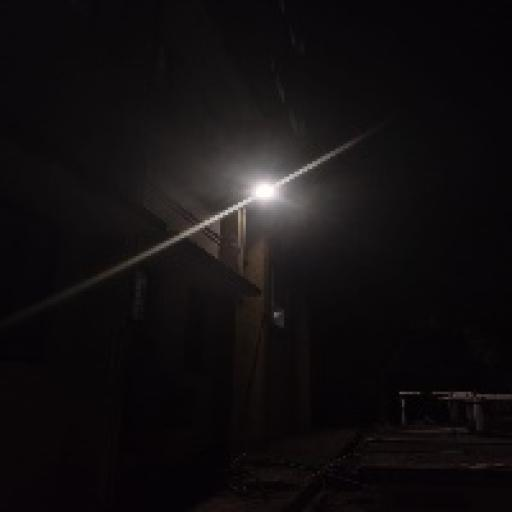Working: (234, 174, 288, 212)
